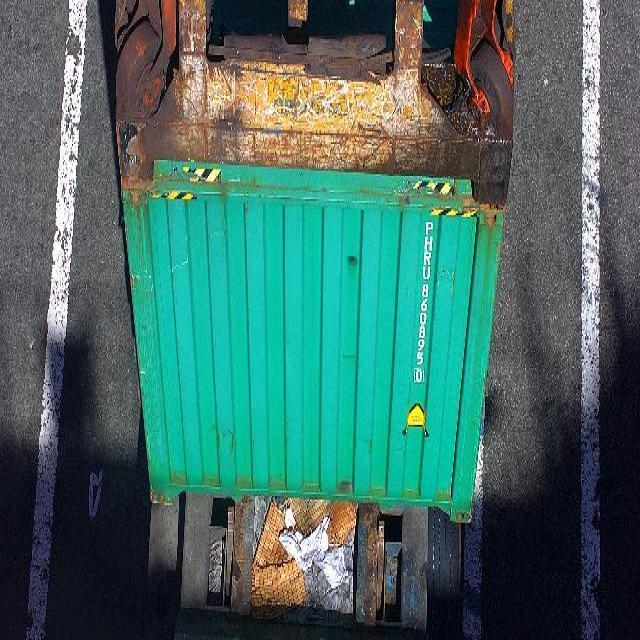container_number: (416, 227, 436, 430)
